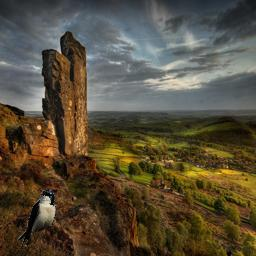Swallow: (17, 190, 56, 248)
